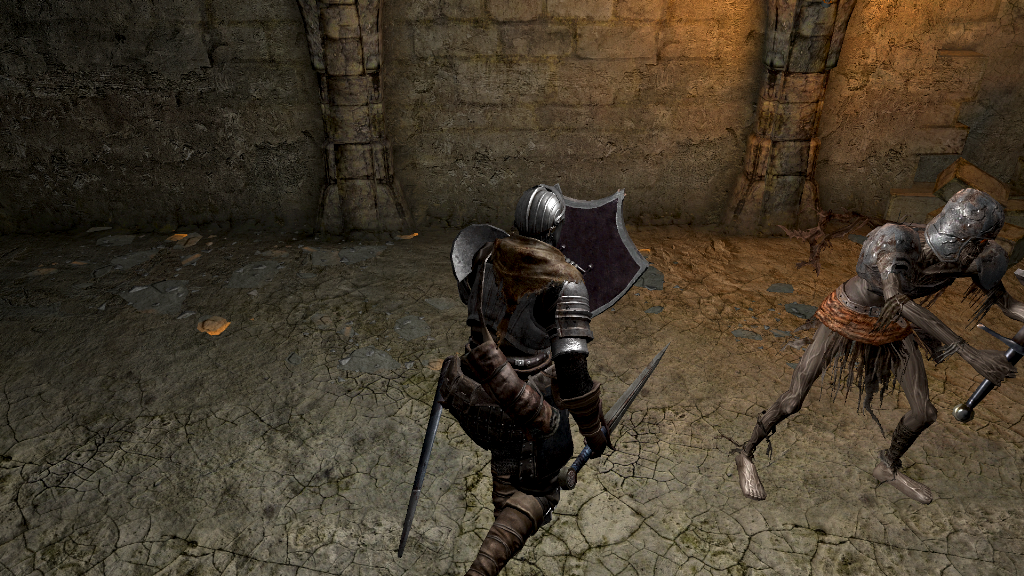player: (439, 177, 669, 576)
undeadSoldier: (734, 187, 1023, 506)
